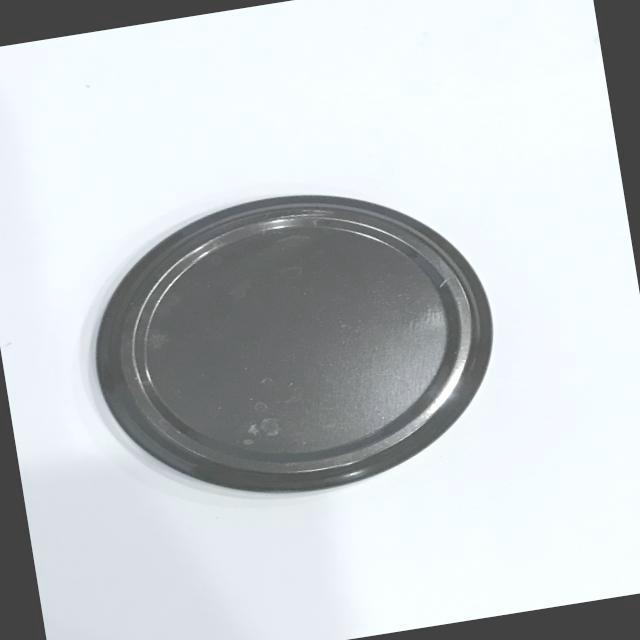metal: (52, 146, 554, 545)
